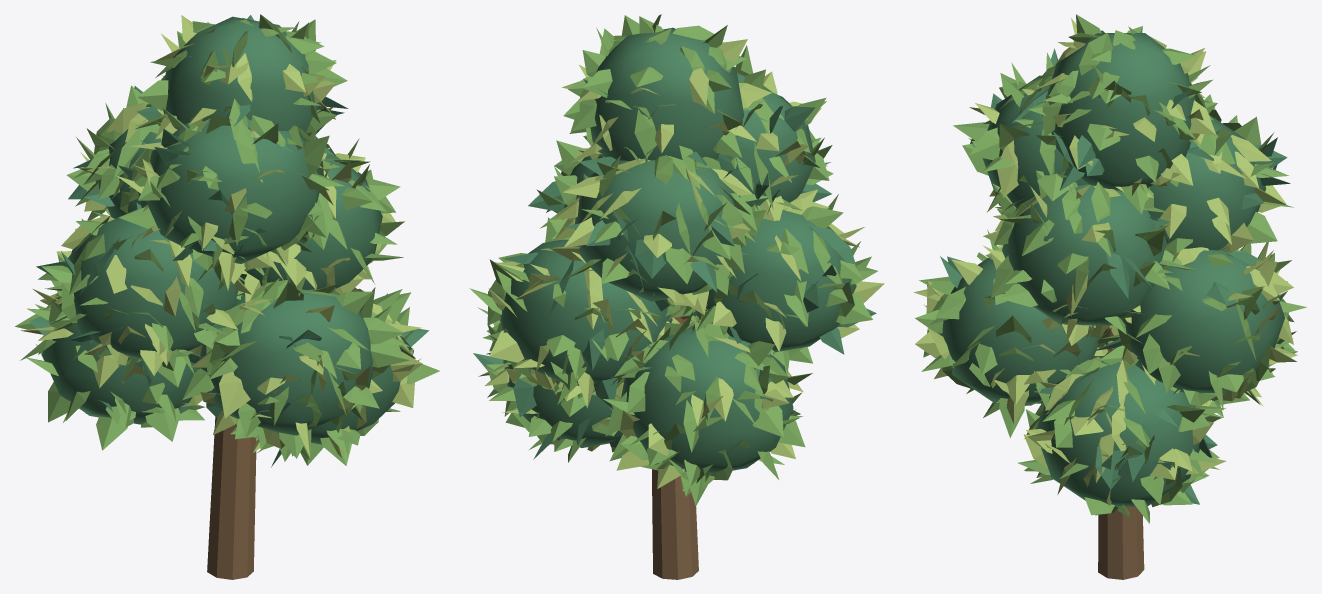
Rendered from Tree_Oak_A.fbx.
3 renders of one model, left to right at view 1: azimuth 30°, elevation 25°; view 2: azimuth 150°, elevation 25°; view 3: azimuth 270°, elevation 25°, orthographic.
Visible parts, largest first — view 1: Tree_Oak_A; view 2: Tree_Oak_A; view 3: Tree_Oak_A.
Boxes of the visible parts, <box> form: Tree_Oak_A: <box>15,14,439,579</box>; Tree_Oak_A: <box>469,14,884,579</box>; Tree_Oak_A: <box>913,14,1306,579</box>.
Bounding box in the file's own units: 353 × 488 × 318.
